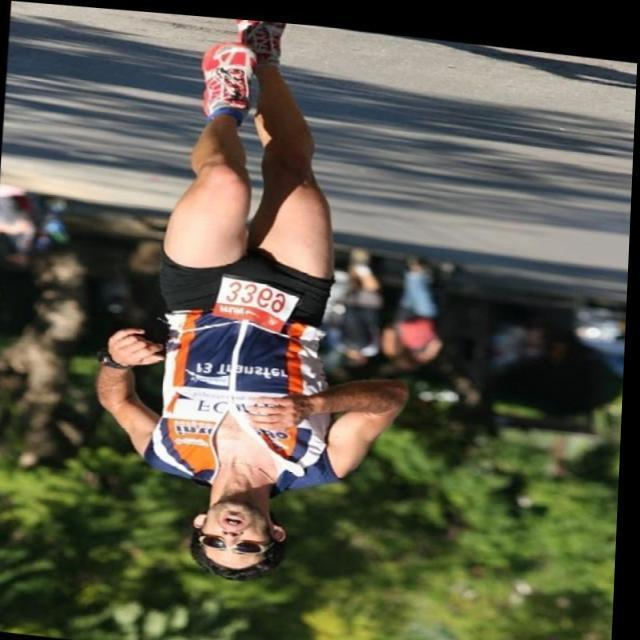dorsal: (207, 273, 306, 326)
